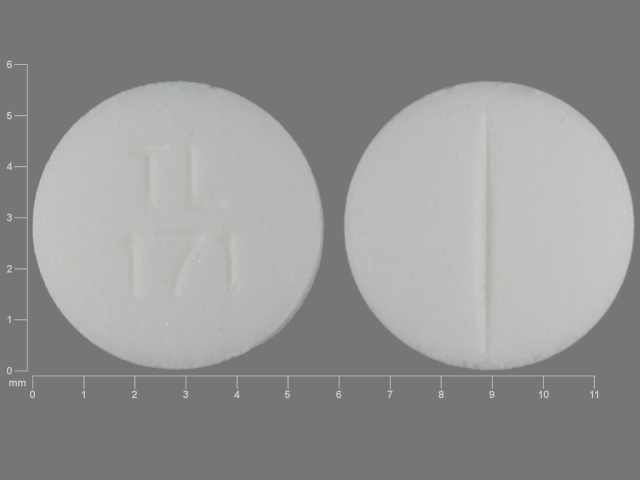1: (211, 222, 251, 306), (118, 226, 143, 307)
7: (146, 227, 207, 301)
L: (177, 135, 236, 218)
T: (117, 137, 176, 219)
|: (466, 86, 511, 375)
